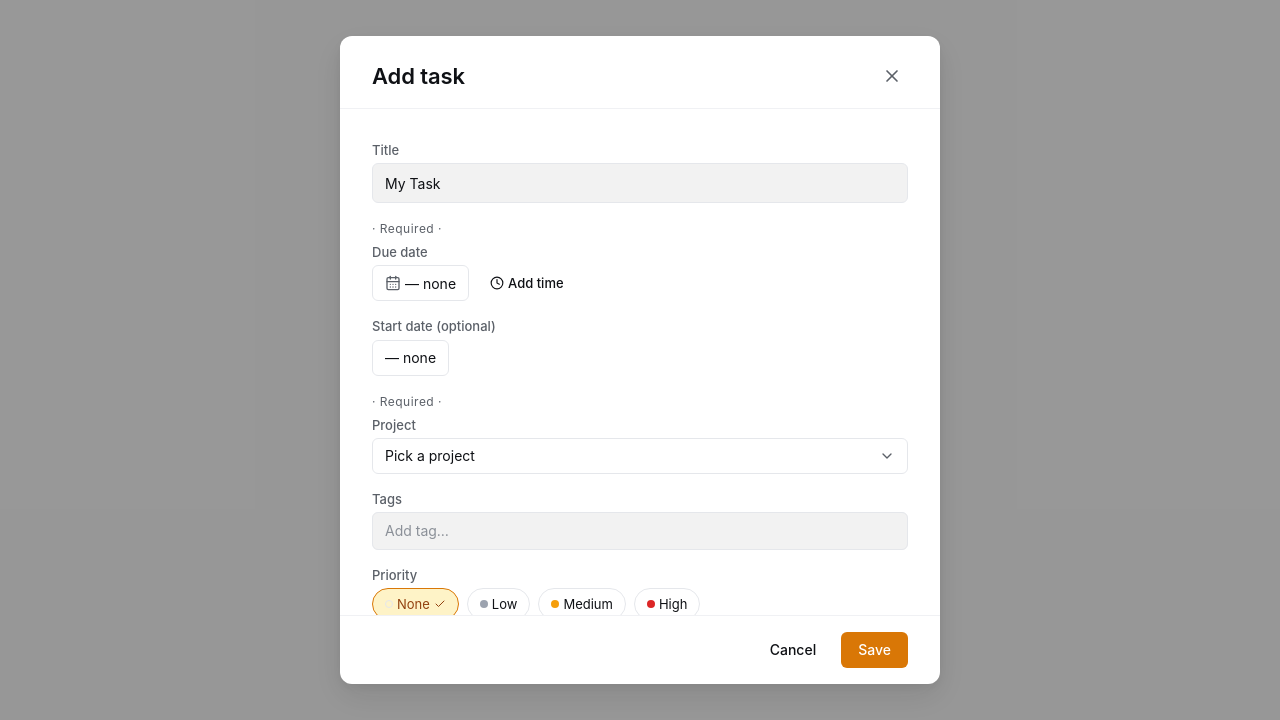
Test: TaskModal — form validation › submitting with empty title → shows "Add a title." error
expect the dialog is shown: met, box left=340, top=36, right=940, bottom=684
Clear the field labelled "Title": x=640, y=183 left=372, top=163, right=908, bottom=203
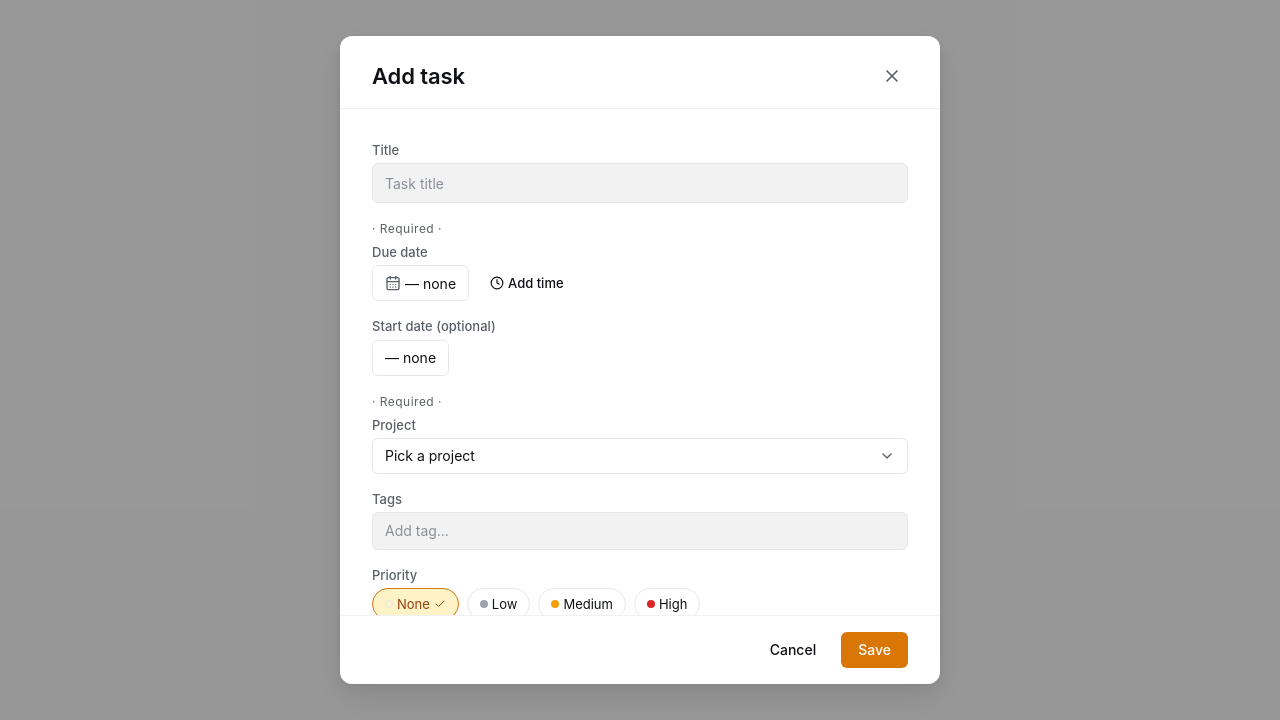
Click the button "Save": x=875, y=650 left=841, top=632, right=908, bottom=668
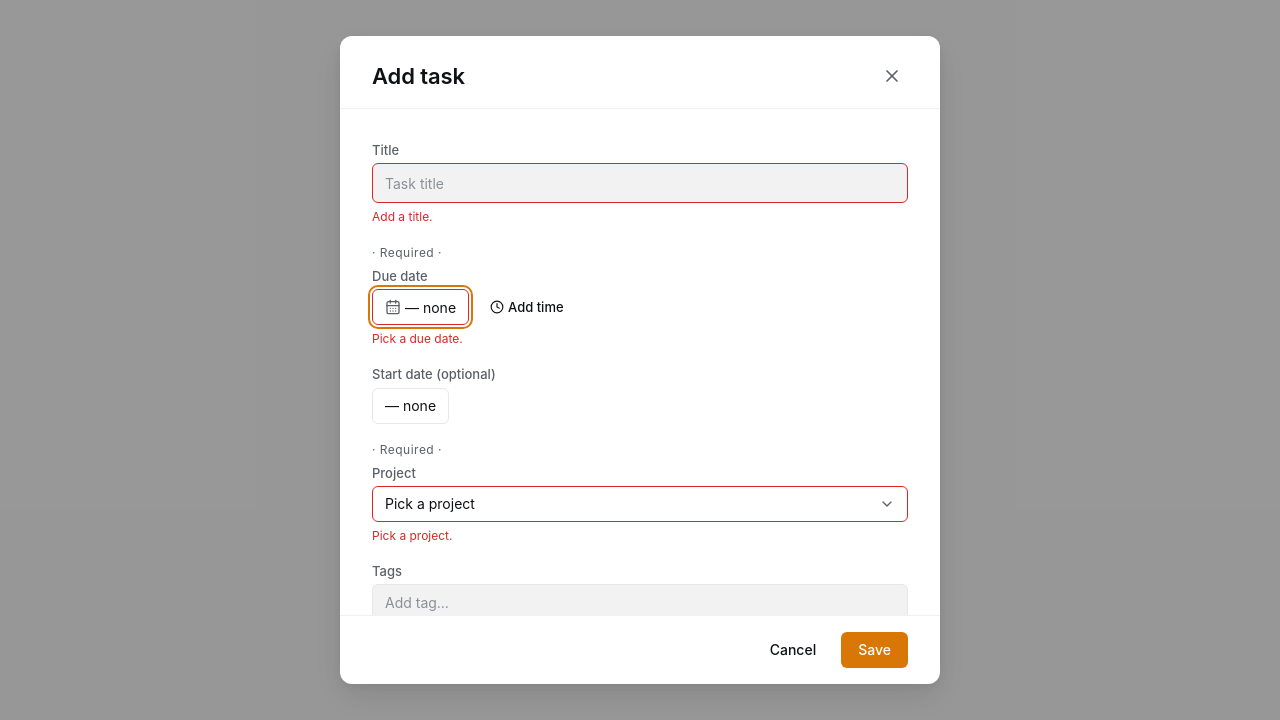
expect the text "Add a title." is shown: met, box left=372, top=209, right=433, bottom=224
